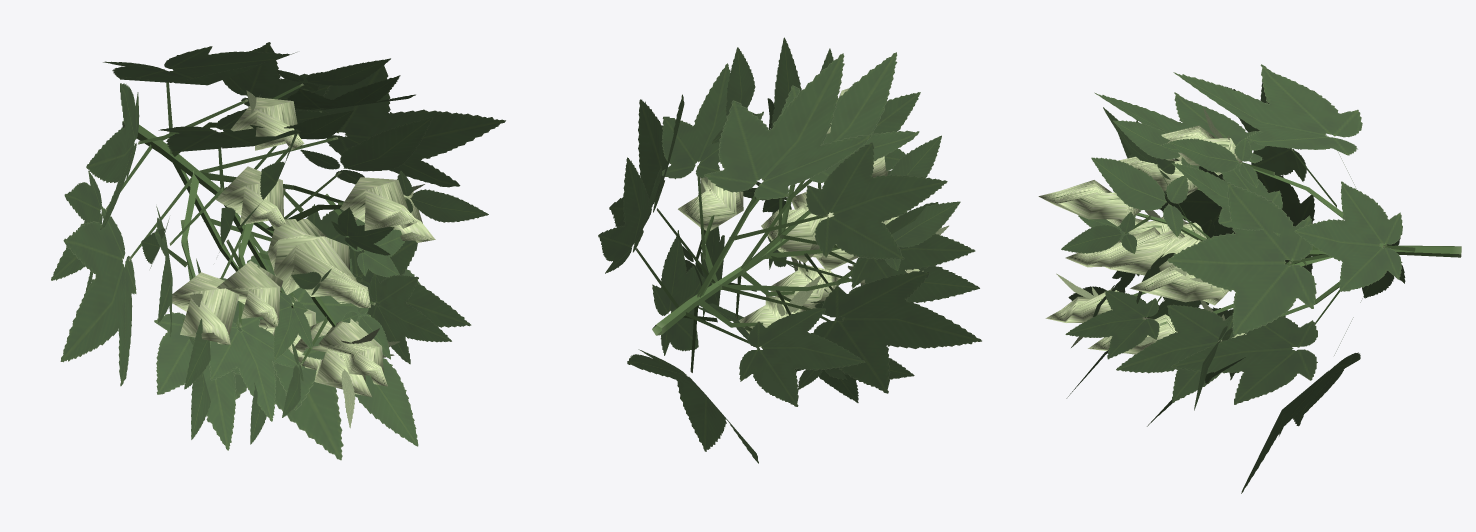
Rendered from p_frosty_afghan_flowering_c0_cards.obj.
3 views of the same model, side by side, from view 1: azimuth 30°, elevation 25°; view 2: azimuth 150°, elevation 25°; view 3: azimuth 270°, elevation 25° (orthographic). The views are drawn at different scales.
Size of the model in its own units: 1.42 by 1.41 by 1.24.
1 material, 1 textured.
